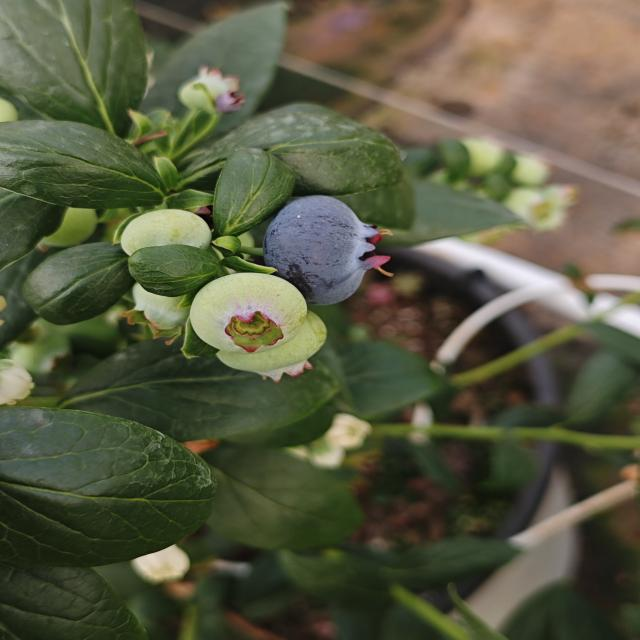ripe: (259, 193, 393, 308)
